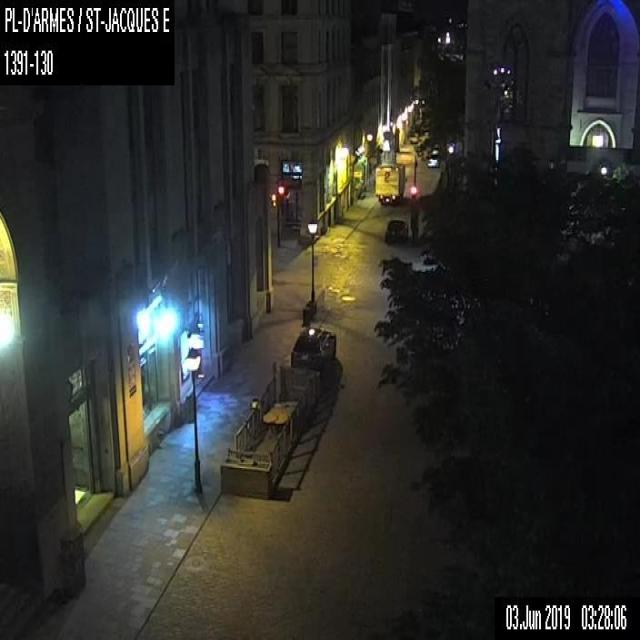vehicle: (288, 324, 336, 372), (374, 161, 406, 204), (384, 219, 408, 244), (426, 157, 439, 167)
